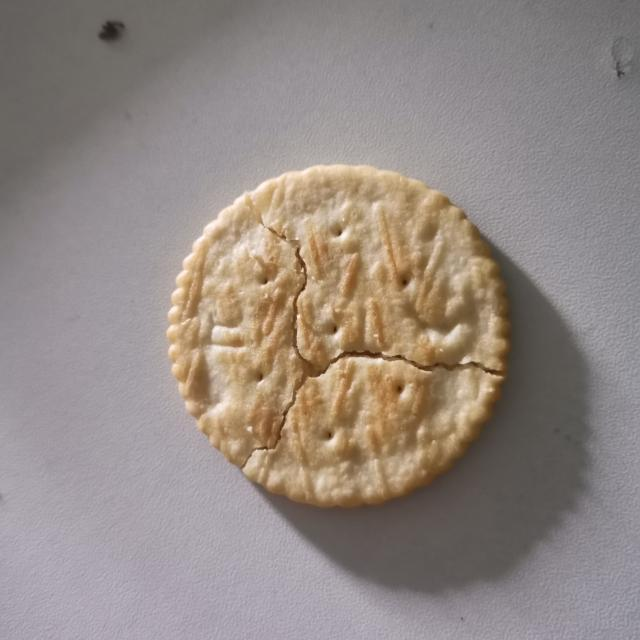Fracture: (227, 200, 511, 485)
